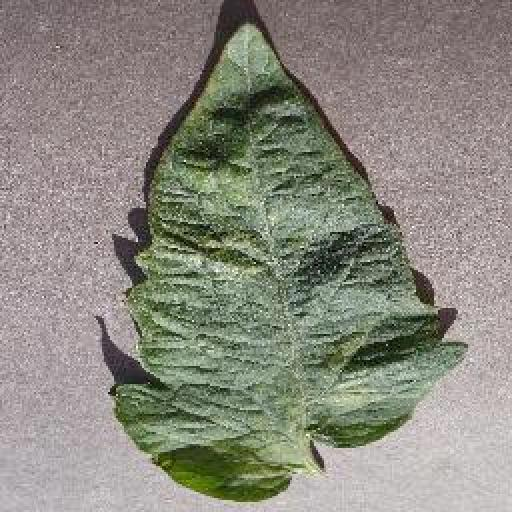disease_tomato: (112, 22, 468, 504)
